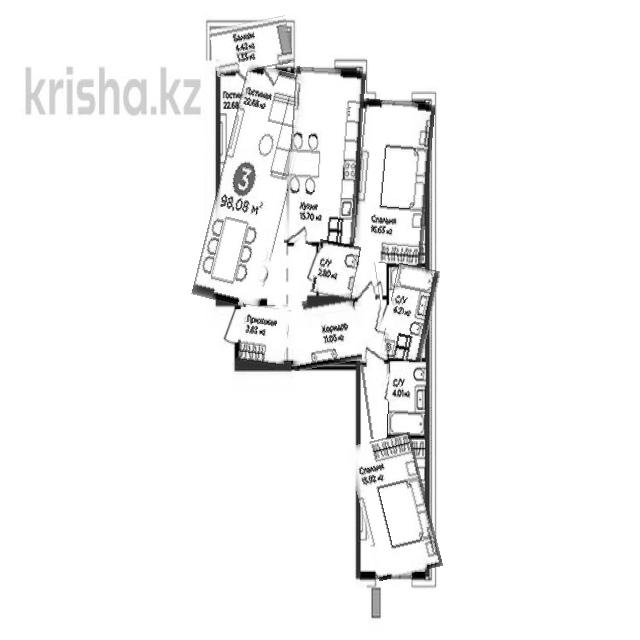balcony: (211, 19, 293, 73)
bathroom: (384, 264, 436, 362), (388, 362, 428, 438), (313, 241, 359, 299)
hallway: (352, 262, 393, 438), (286, 296, 360, 369), (236, 305, 289, 368)
kitchen: (287, 67, 363, 246)
living_room: (205, 65, 302, 308), (356, 100, 432, 265), (354, 435, 436, 579)
